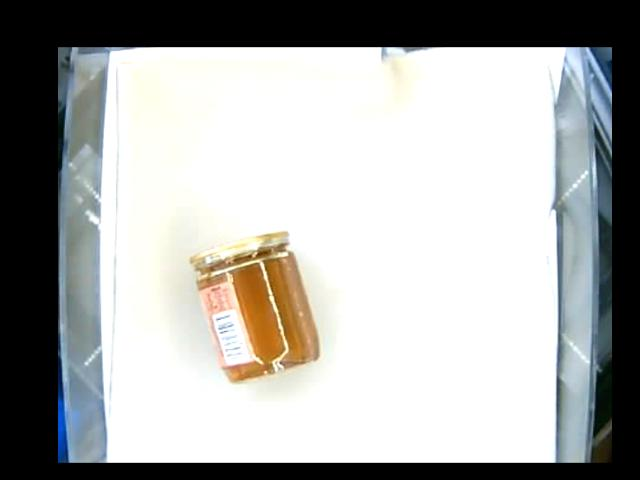Bottle: (187, 233, 320, 382)
